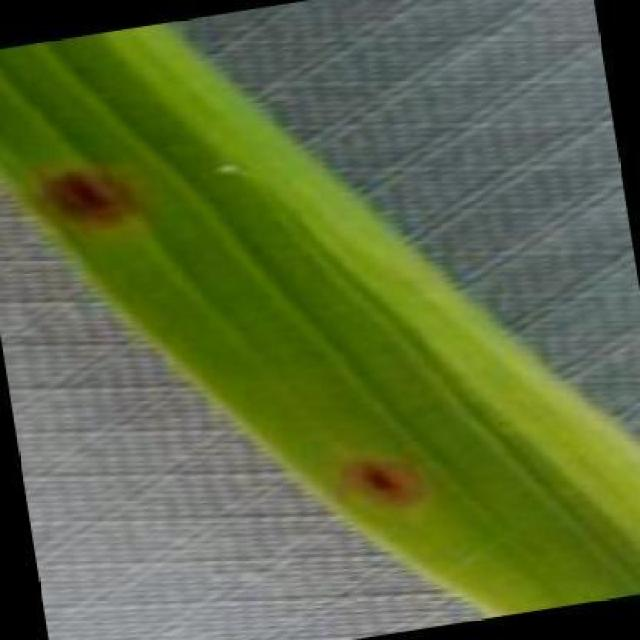Leaf_Blast: (22, 151, 133, 246), (338, 444, 420, 521)
